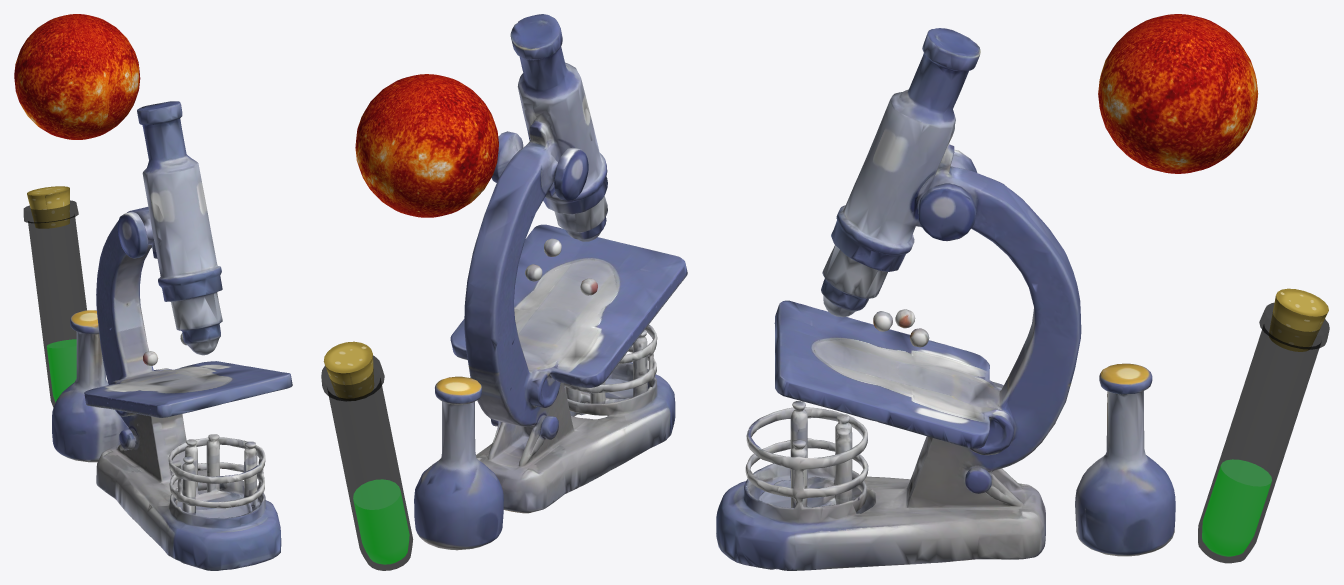
The model's file is lab.glb.
3 views of the same model, side by side, from view 1: azimuth 30°, elevation 25°; view 2: azimuth 150°, elevation 25°; view 3: azimuth 270°, elevation 25° (orthographic). The views are drawn at different scales.
Parts seen in each view (by area): view 1: Mesh_0, Sphere.001, pCylinder8, pCylinder9, pCylinder10; view 2: Mesh_0, Sphere.001, pCylinder8, pCylinder10, pCylinder9; view 3: Mesh_0, Sphere.001, pCylinder8, pCylinder10, pCylinder9.
Boxes of the visible parts, left/top/right/bottom form: Mesh_0: left=52, top=101, right=292, bottom=570; Sphere.001: left=14, top=14, right=140, bottom=139; pCylinder8: left=23, top=200, right=86, bottom=407; pCylinder9: left=27, top=186, right=69, bottom=228; pCylinder10: left=46, top=339, right=76, bottom=402; Mesh_0: left=414, top=14, right=687, bottom=550; Sphere.001: left=355, top=74, right=498, bottom=217; pCylinder8: left=321, top=355, right=413, bottom=570; pCylinder10: left=353, top=479, right=409, bottom=564; pCylinder9: left=323, top=341, right=374, bottom=398; Mesh_0: left=716, top=28, right=1175, bottom=570; Sphere.001: left=1098, top=14, right=1258, bottom=173; pCylinder8: left=1198, top=302, right=1329, bottom=563; pCylinder10: left=1202, top=459, right=1271, bottom=556; pCylinder9: left=1269, top=288, right=1328, bottom=351.
Bounding box in the file's own units: 0.6932 × 2.07 × 2.18.
5 materials, 3 textured.
